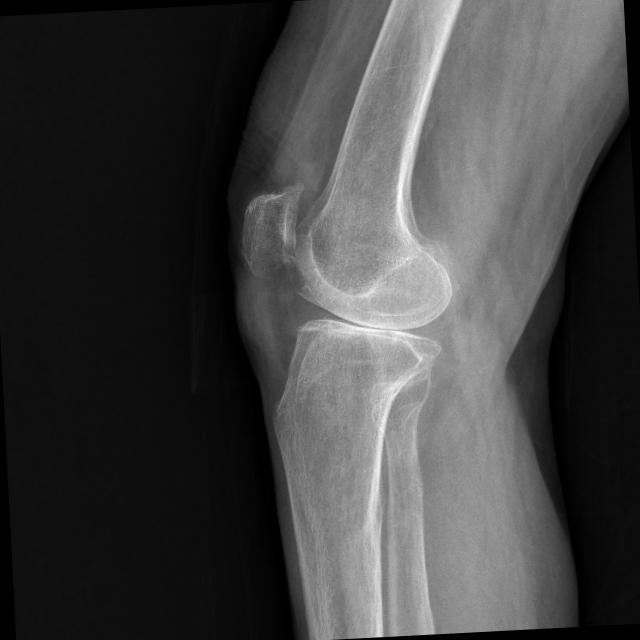Knee: (239, 174, 462, 391)
